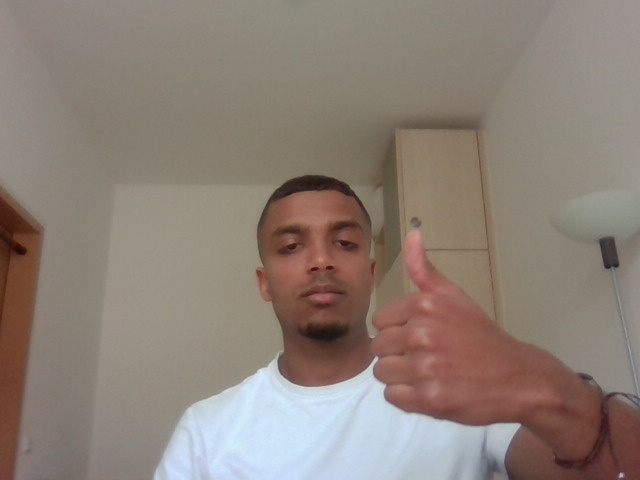yes: (371, 224, 564, 445)
